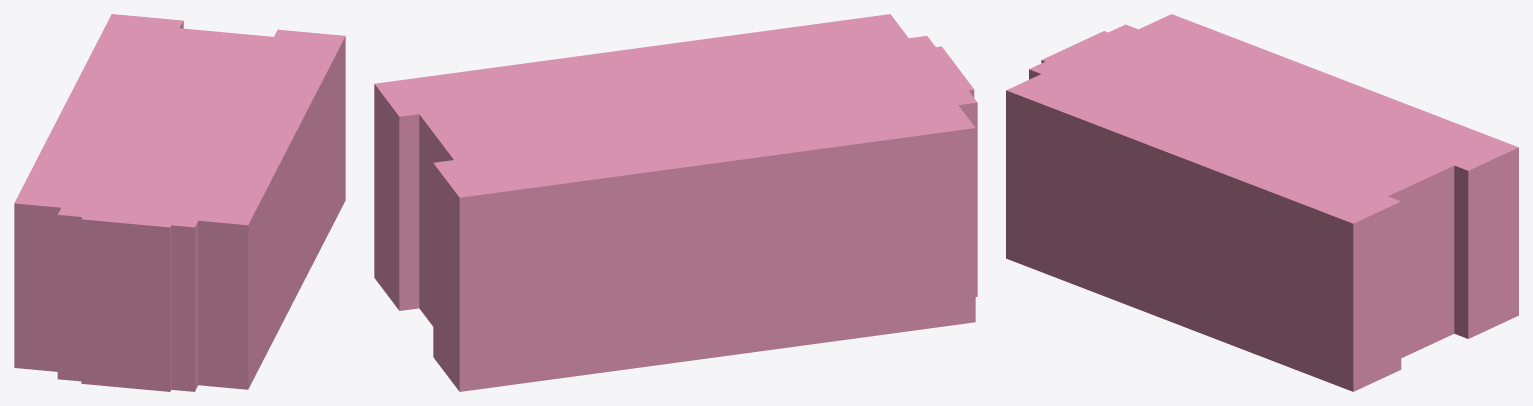
File: NhaHat_ThanhPho.gltf
3 renders of one model, left to right at view 1: azimuth 30°, elevation 25°; view 2: azimuth 150°, elevation 25°; view 3: azimuth 270°, elevation 25°, orthographic. The views are drawn at different scales.
Visible parts, largest first — view 1: NhaHat_Footprint; view 2: NhaHat_Footprint; view 3: NhaHat_Footprint.
Boxes of the visible parts, box(x1,y1,x2,y2) form: NhaHat_Footprint: box(14, 14, 345, 391); NhaHat_Footprint: box(374, 14, 977, 391); NhaHat_Footprint: box(1006, 14, 1518, 391).
Size of the model in its own units: 66.85 by 25 by 69.06.
